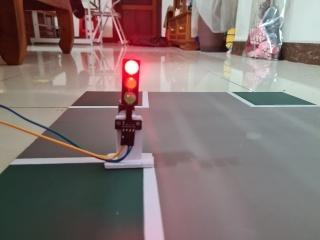red: (116, 52, 147, 115)
